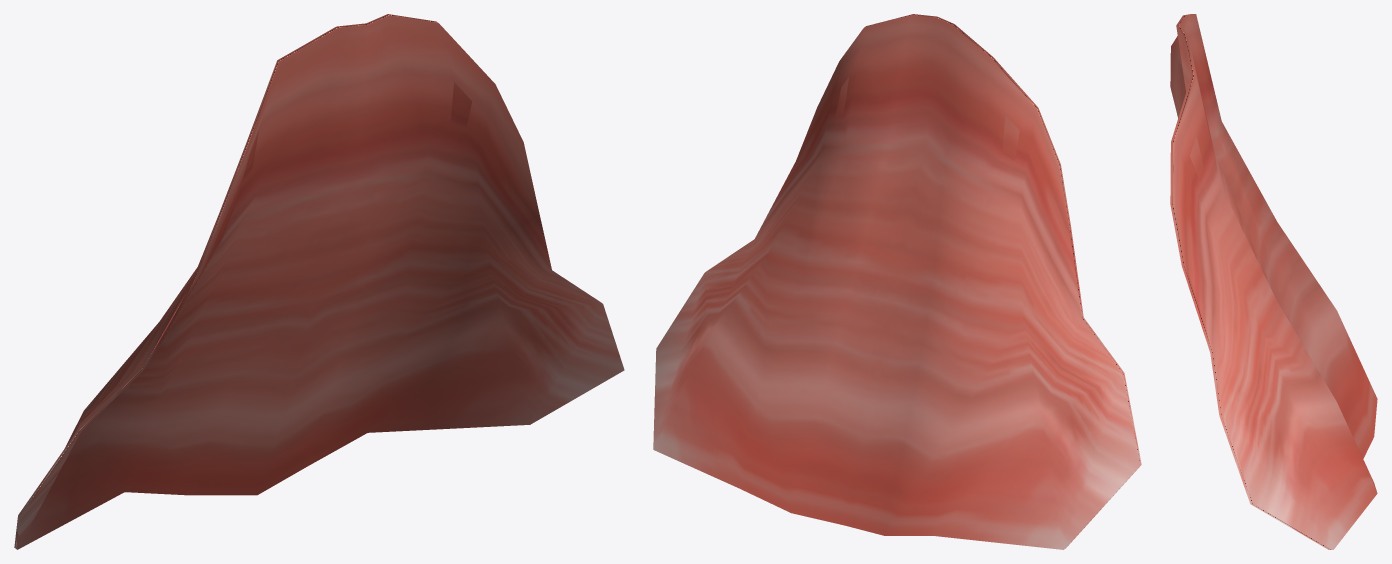
The model's file is Trapezius_Muscle.obj.
3 renders of one model, left to right at view 1: azimuth 30°, elevation 25°; view 2: azimuth 150°, elevation 25°; view 3: azimuth 270°, elevation 25°, orthographic. The views are drawn at different scales.
Visible parts, largest first — view 1: pCube3; view 2: pCube3; view 3: pCube3.
Boxes of the visible parts, box(x1,y1,x2,y2) form: pCube3: box(14, 14, 624, 549); pCube3: box(653, 14, 1141, 549); pCube3: box(1170, 14, 1377, 549).
Bounding box in the file's own units: 2.19 × 1.91 × 0.8143.
